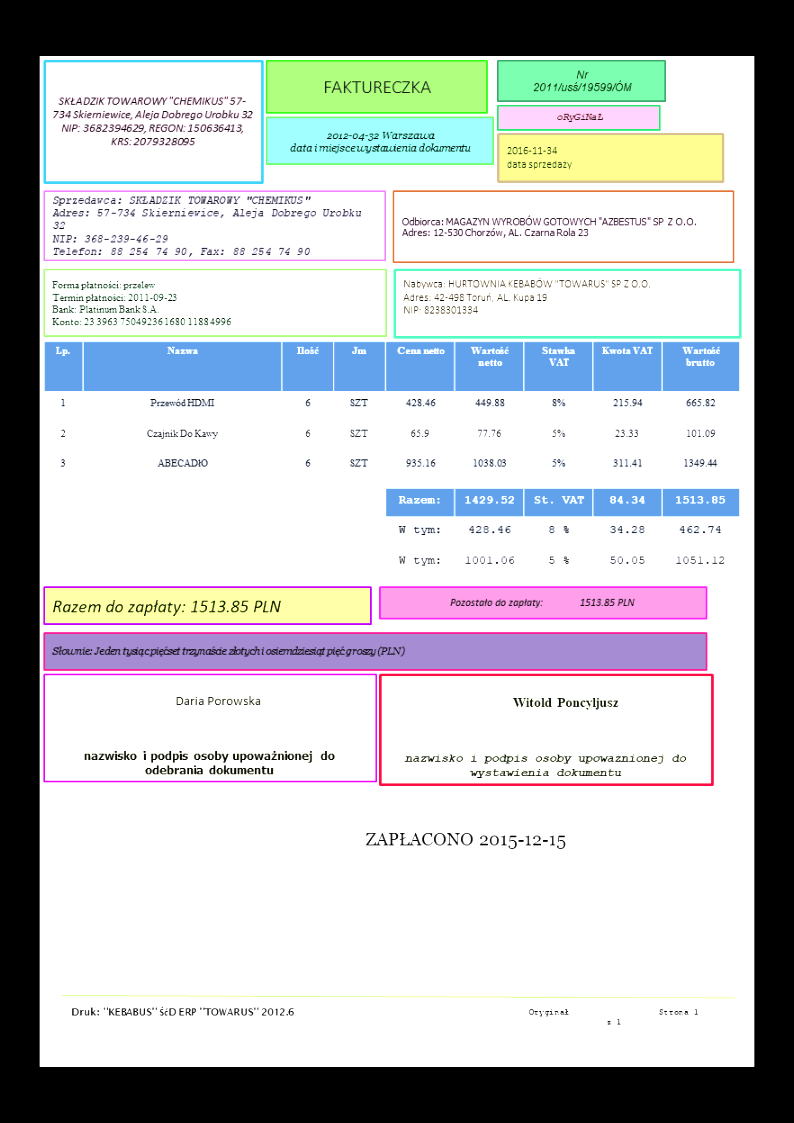Table: (42, 340, 741, 485), (383, 487, 742, 579)
TextBox: (50, 191, 365, 258), (51, 92, 255, 150), (48, 276, 234, 328), (401, 277, 652, 315), (401, 751, 687, 780), (79, 749, 338, 778), (49, 640, 406, 661), (400, 215, 698, 240), (49, 593, 283, 615), (361, 829, 568, 853), (287, 129, 474, 155), (68, 1001, 299, 1020), (527, 1007, 703, 1027), (529, 66, 634, 95), (446, 594, 636, 609), (320, 77, 435, 98), (510, 693, 623, 711), (504, 143, 573, 171), (172, 690, 265, 709), (554, 109, 607, 123)
